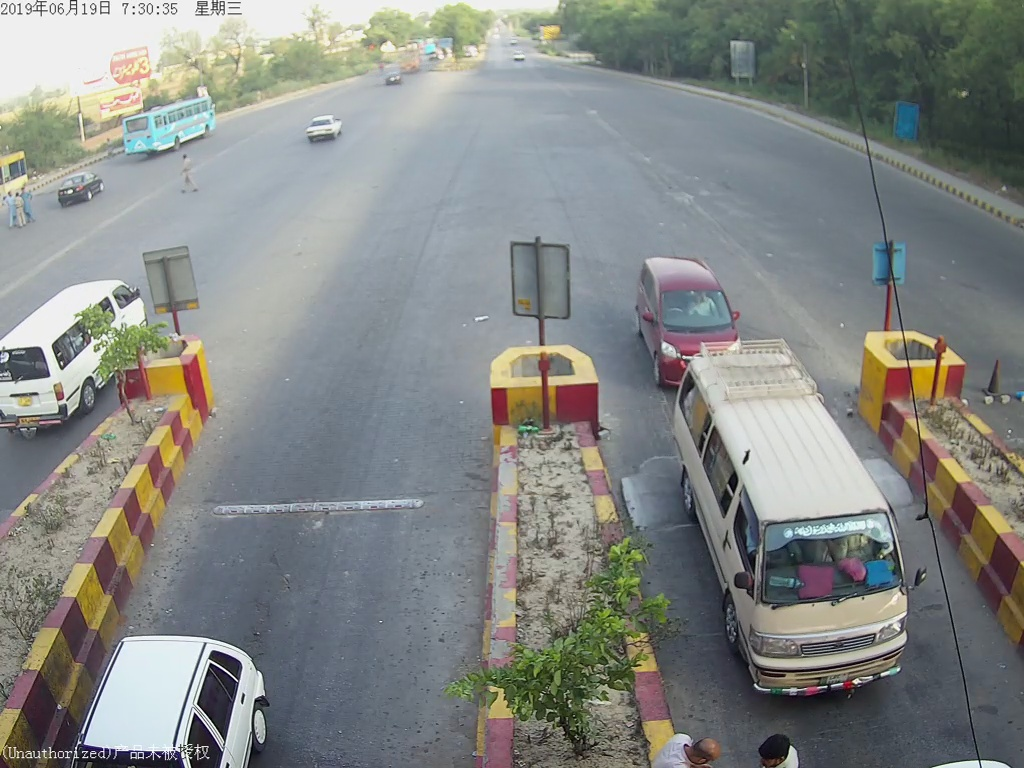Cat-1: (627, 257, 748, 336)
Cat-2: (671, 345, 941, 697)
